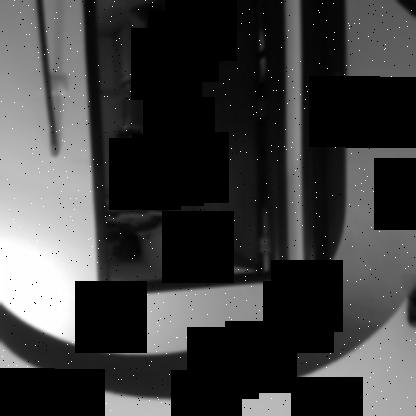Porte: (81, 1, 293, 299)
